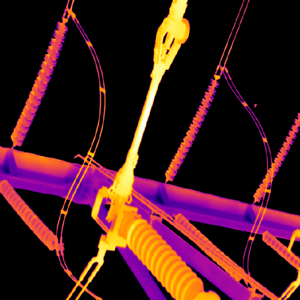insulator: (9, 20, 69, 146), (164, 76, 218, 182), (172, 210, 244, 282), (251, 111, 300, 202), (0, 178, 58, 251), (260, 226, 300, 270)
